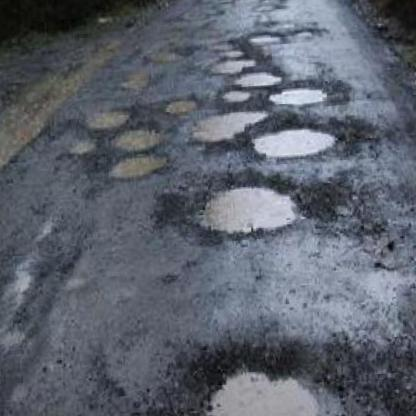pothole: (189, 339, 338, 416), (188, 172, 308, 240), (247, 116, 342, 163), (187, 104, 270, 146), (106, 150, 172, 182), (263, 78, 330, 108), (109, 125, 163, 153), (81, 104, 133, 129), (207, 53, 259, 74), (231, 68, 280, 88), (247, 27, 282, 44), (163, 93, 197, 110)
